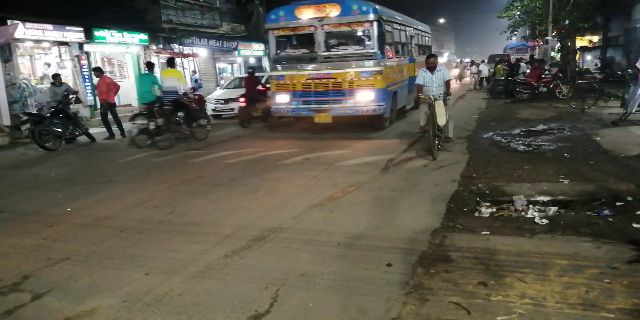Bus: (262, 2, 415, 135)
Car: (206, 74, 253, 117)
Cycle: (128, 65, 211, 154), (415, 50, 454, 166)
